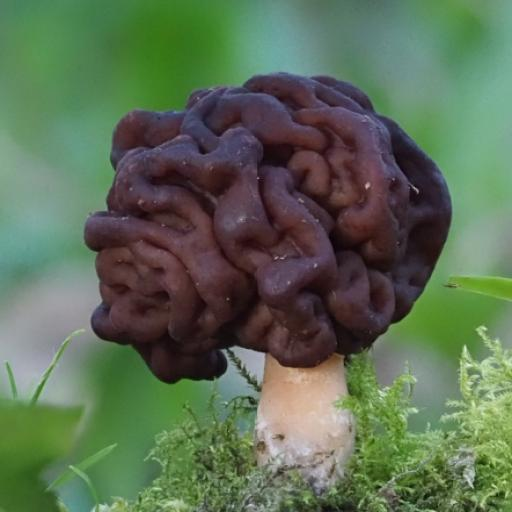mushroom: (33, 19, 474, 478)
